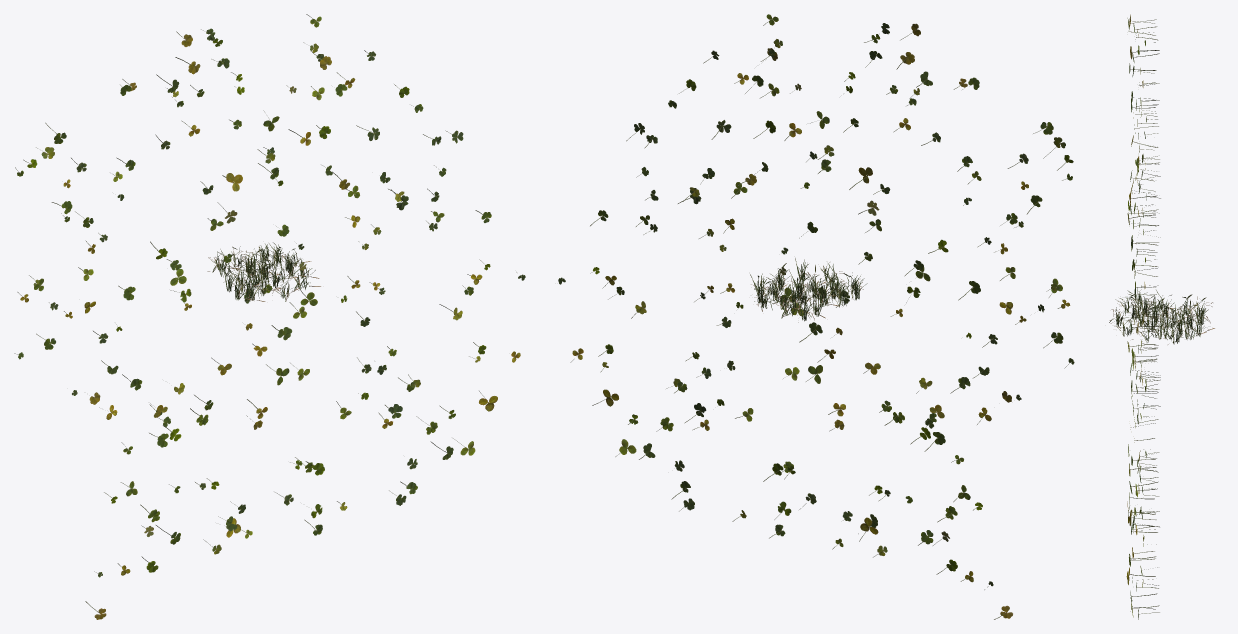
Rendered from dense_grass.glb.
3 renders of one model, left to right at view 1: azimuth 30°, elevation 25°; view 2: azimuth 150°, elevation 25°; view 3: azimuth 270°, elevation 25°, orthographic. The views are drawn at different scales.
Parts seen in each view (by area): view 1: 0_1_3457643232_0, 0_1_2_1300954650_0; view 2: 0_1_3457643232_0, 0_1_2_1300954650_0; view 3: 0_1_3457643232_0, 0_1_2_1300954650_0.
Part boxes in pixels (bbox=[...]): 0_1_3457643232_0: bbox=[14, 14, 525, 619]; 0_1_2_1300954650_0: bbox=[207, 242, 320, 301]; 0_1_3457643232_0: bbox=[558, 14, 1074, 619]; 0_1_2_1300954650_0: bbox=[750, 258, 867, 322]; 0_1_3457643232_0: bbox=[1126, 14, 1160, 619]; 0_1_2_1300954650_0: bbox=[1109, 290, 1214, 344].
Size of the model in its own units: 261 by 277 by 56.07.
Materials: 2 (2 with a texture image).
